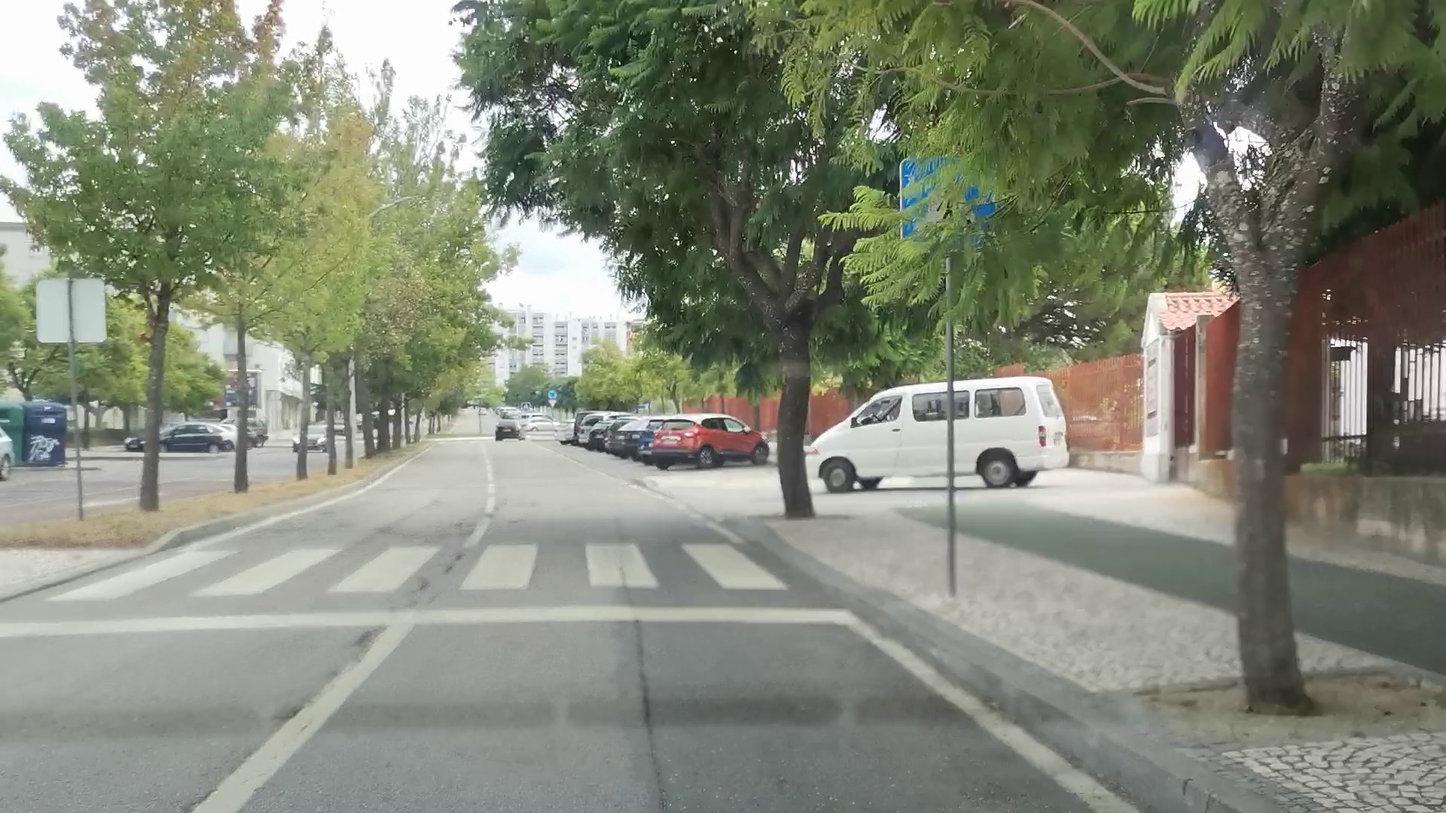Stairs: (19, 543, 788, 608)
